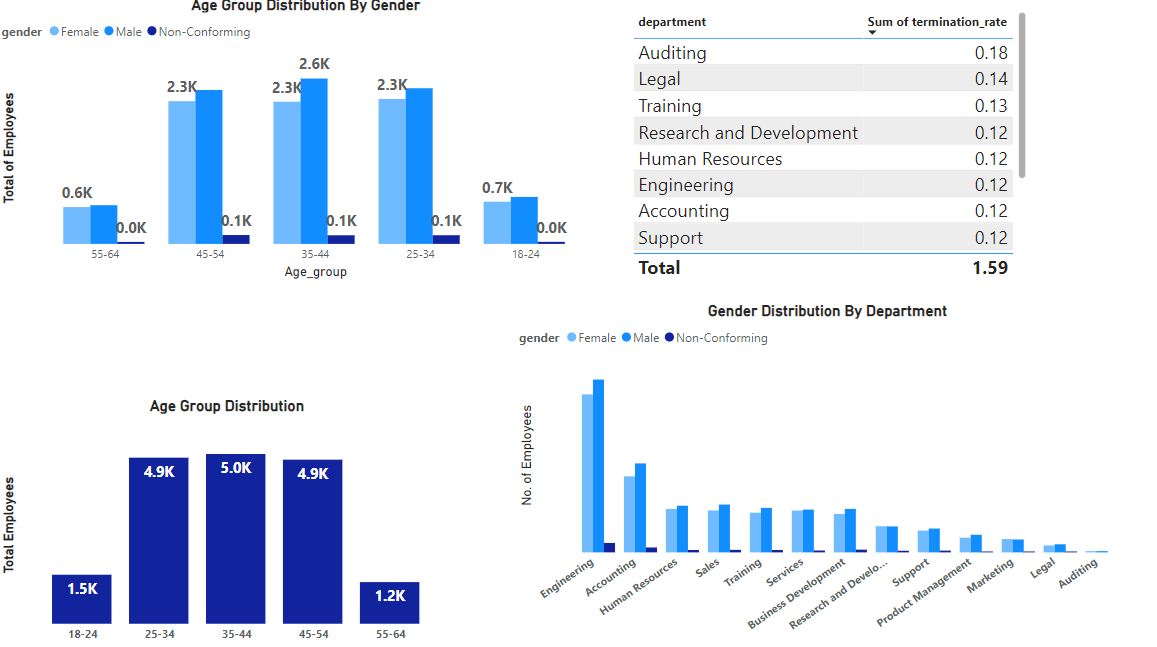

This screenshot's page, from the dashboard's own definition file:
{"tool":"powerbi","page":{"name":"Page 2","canvas":[1280,720],"ordinal":1},"visuals":[{"type":"columnChart","title":"Age Group Distribution","fields":{"Category":["age group.Age_group"],"Y":["Sum(age group.total)"]},"box":[0,440.5,505,279.9],"z":0},{"type":"clusteredColumnChart","title":" Age Group Distribution By Gender","fields":{"Category":["age group gender.Age_group"],"Series":["age group gender.gender"],"Y":["Sum(age group gender.total)"]},"box":[0,0,677.9,317],"z":1000},{"type":"tableEx","fields":{"Values":["turnover rate.department","Sum(turnover rate.termination_rate)"]},"box":[693,13.7,441.9,303.3],"z":2000},{"type":"clusteredColumnChart","title":"Gender Distribution By Department ","fields":{"Category":["gender_department.department"],"Series":["gender_department.gender"],"Y":["Sum(gender_department.total)"]},"box":[568.1,336.2,687.5,374.6],"z":2001}]}

Visuals, with their boxes in screenshot pixels (x1, y1, x2, y2), scaled from the page's 1280x720 canvas onto the 1157x647 screenshot:
"Age Group Distribution" columnChart: left=0, top=396, right=456, bottom=646
" Age Group Distribution By Gender" clusteredColumnChart: left=0, top=0, right=613, bottom=285
tableEx - turnover rate.department x Sum(turnover rate.termination_rate): left=626, top=12, right=1026, bottom=285
"Gender Distribution By Department " clusteredColumnChart: left=514, top=302, right=1135, bottom=639
